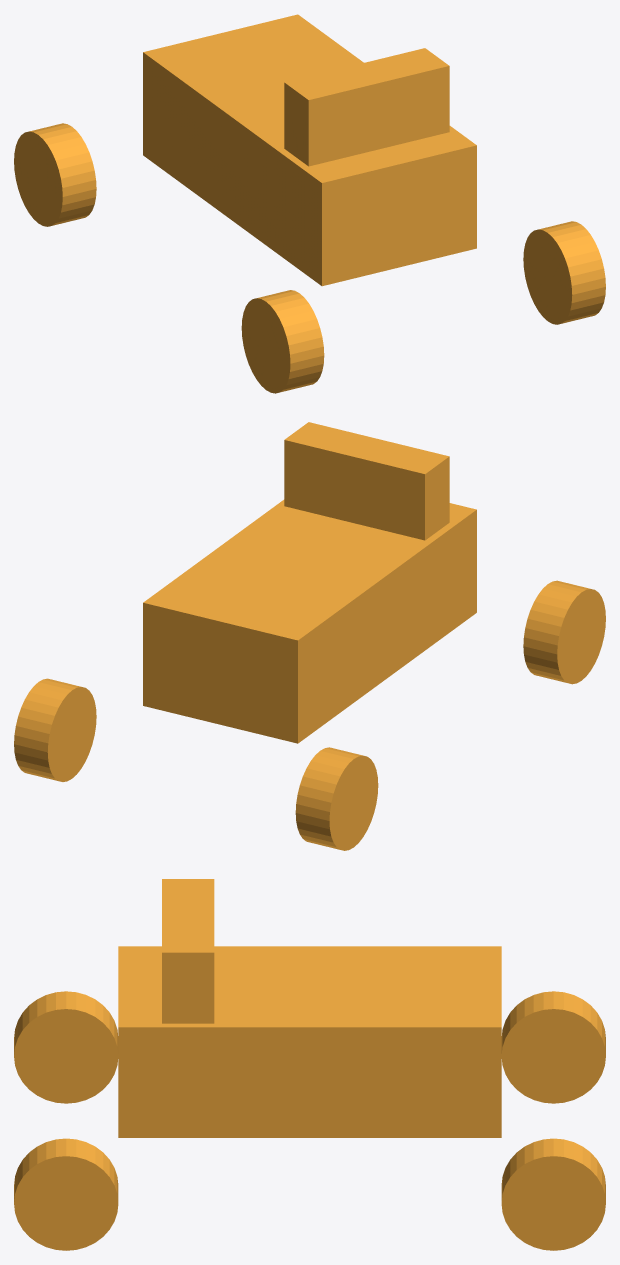
Rendered from cart_placeholder.glb.
3 views of the same model, one above another, from view 1: azimuth 30°, elevation 25°; view 2: azimuth 150°, elevation 25°; view 3: azimuth 270°, elevation 25° (orthographic). The views are drawn at different scales.
Visible parts, largest first — view 1: Cart; view 2: Cart; view 3: Cart.
Boxes of the visible parts, left/top/right/bottom form: Cart: left=14, top=14, right=605, bottom=393; Cart: left=14, top=422, right=605, bottom=850; Cart: left=14, top=879, right=605, bottom=1250.
Size of the model in its own units: 1.12 by 0.8 by 1.7.
